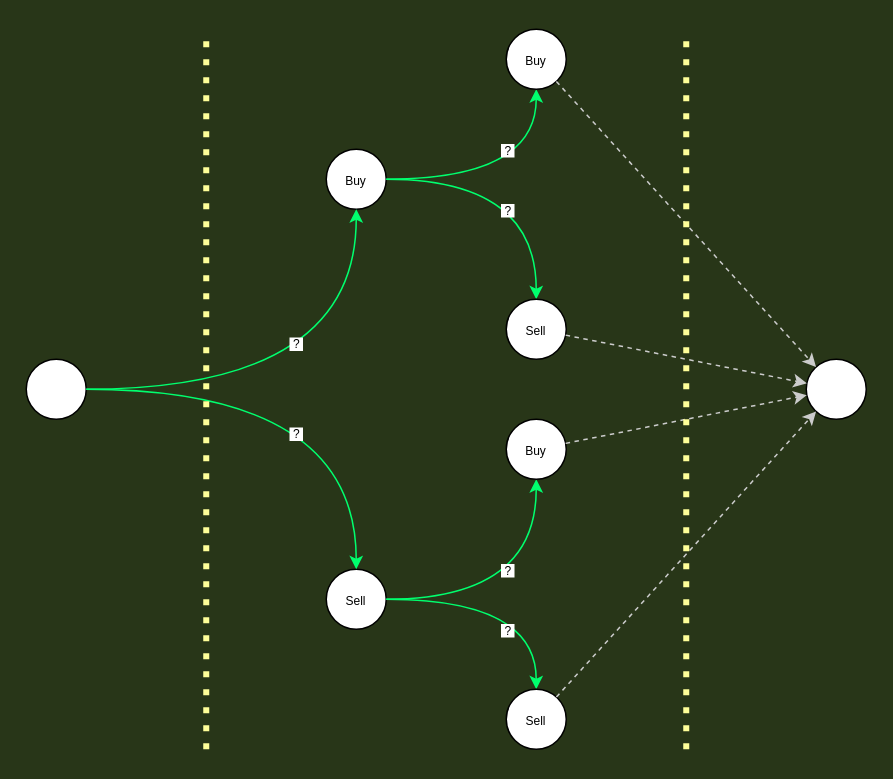
Image size: 893x779. Some labels were removed from this diagram. The shapes that lost their labels are listed below. From the top down, each one's centre as x and y in pixels, then its label:
At (x=55, y=388): "Start".
At (x=835, y=388): "end".
